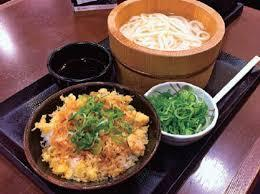kamaage: (102, 1, 246, 109)
